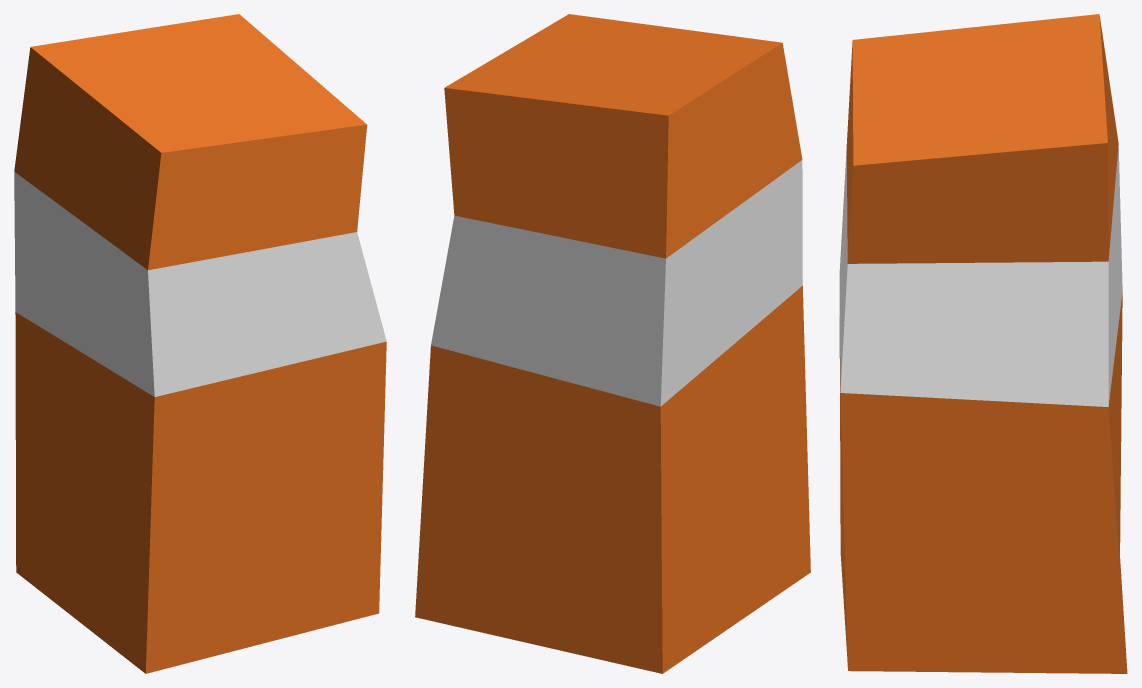
The model's file is DesertRock03.glb.
3 renders of one model, left to right at view 1: azimuth 30°, elevation 25°; view 2: azimuth 150°, elevation 25°; view 3: azimuth 270°, elevation 25°, orthographic. The views are drawn at different scales.
Visible parts, largest first — view 1: DesertRock03; view 2: DesertRock03; view 3: DesertRock03.
Part boxes in pixels (box(x1,y1,x2,y2)): DesertRock03: box(14, 14, 386, 673); DesertRock03: box(415, 14, 810, 673); DesertRock03: box(839, 14, 1127, 673).
Size of the model in its own units: 2 by 4.19 by 2.01.
1 material, 1 textured.
